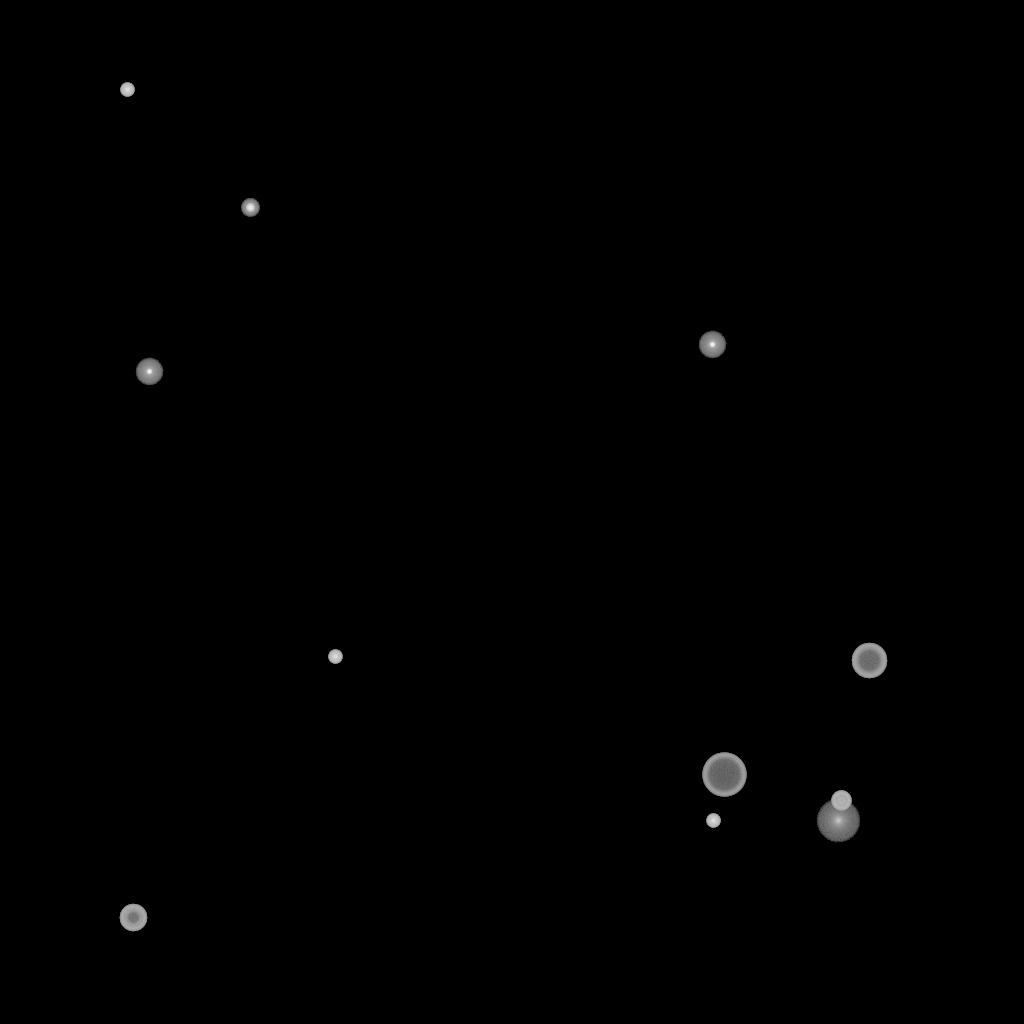depth:-10: (135, 358, 163, 386), (698, 331, 726, 359)
depth:-20: (241, 199, 259, 217)
depth:-30: (328, 650, 342, 664), (120, 83, 134, 97), (706, 814, 720, 828)
depth:-40: (831, 791, 851, 811)
depth:-50: (119, 904, 147, 932)
depth:-60: (851, 643, 887, 679)
depth:-70: (702, 753, 746, 797)
depth:10: (816, 799, 860, 843)
